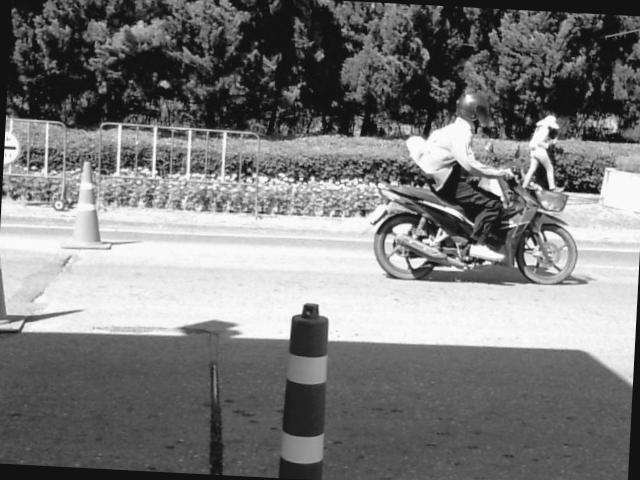helmet: (457, 87, 490, 124)
motor: (369, 183, 496, 278), (480, 161, 576, 282)
person: (408, 92, 512, 260)
